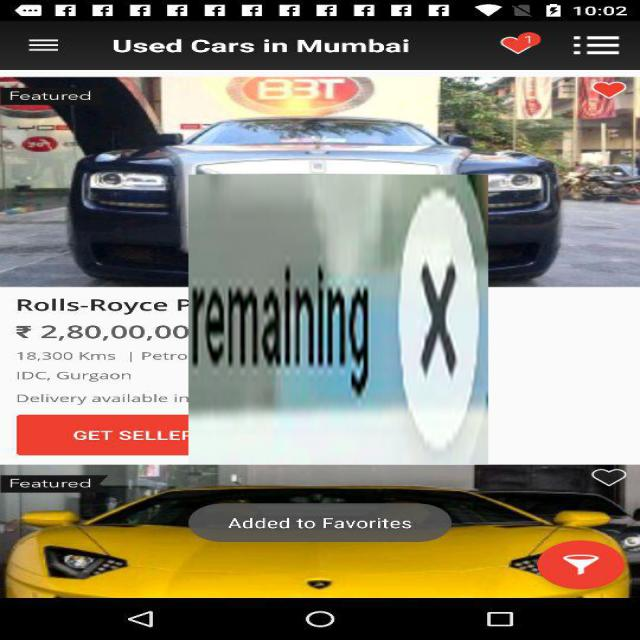misdirection: (188, 175, 488, 464)
